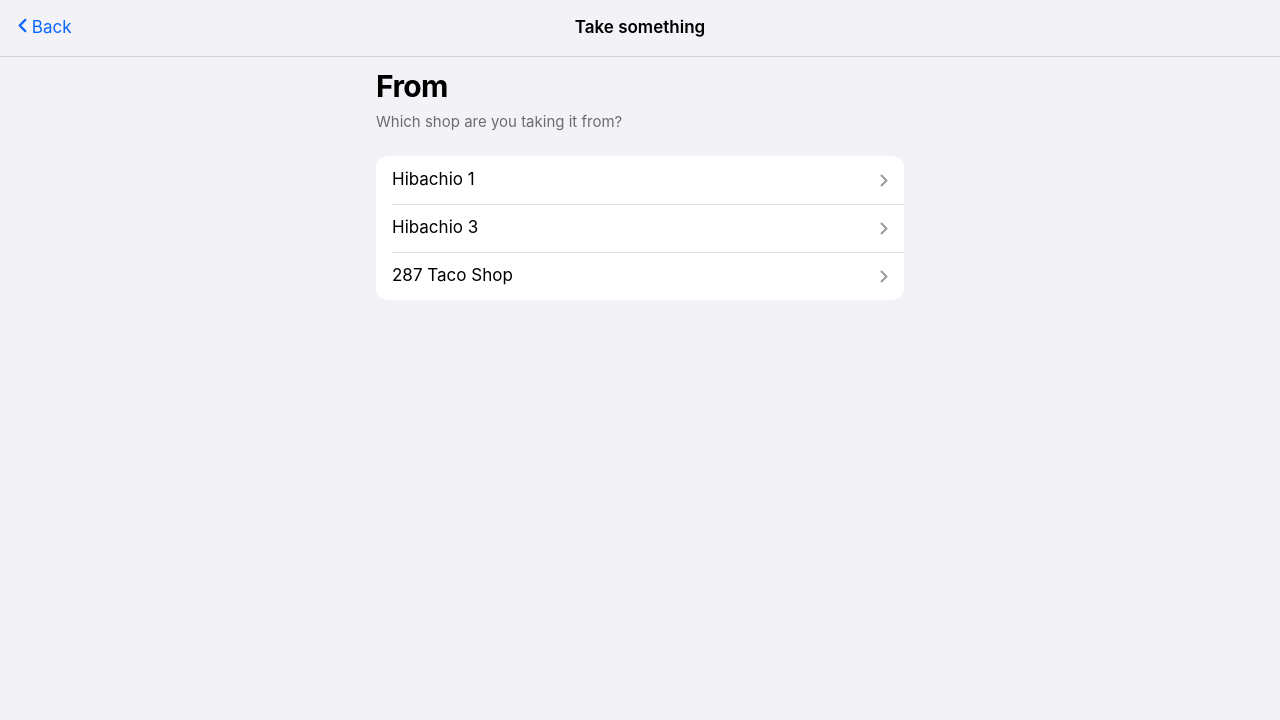
Test: the take flow, end to end › searches the catalog
Click the button "287 Taco Shop" at [452, 275], box [376,252,904,300]
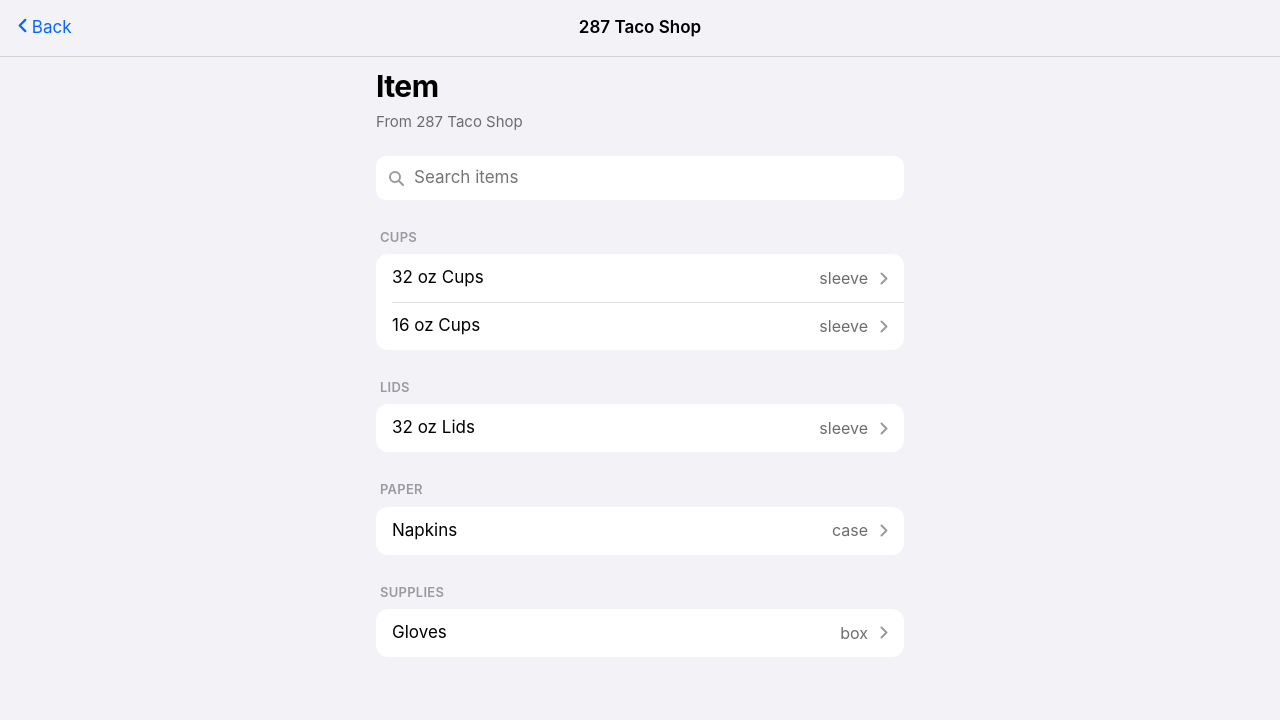
Result: the button "32 oz Cups sleeve" is shown at [376,254,904,302]
Type "napk" into the search field labelled "Search items" at [652, 178], box [412,156,892,200]
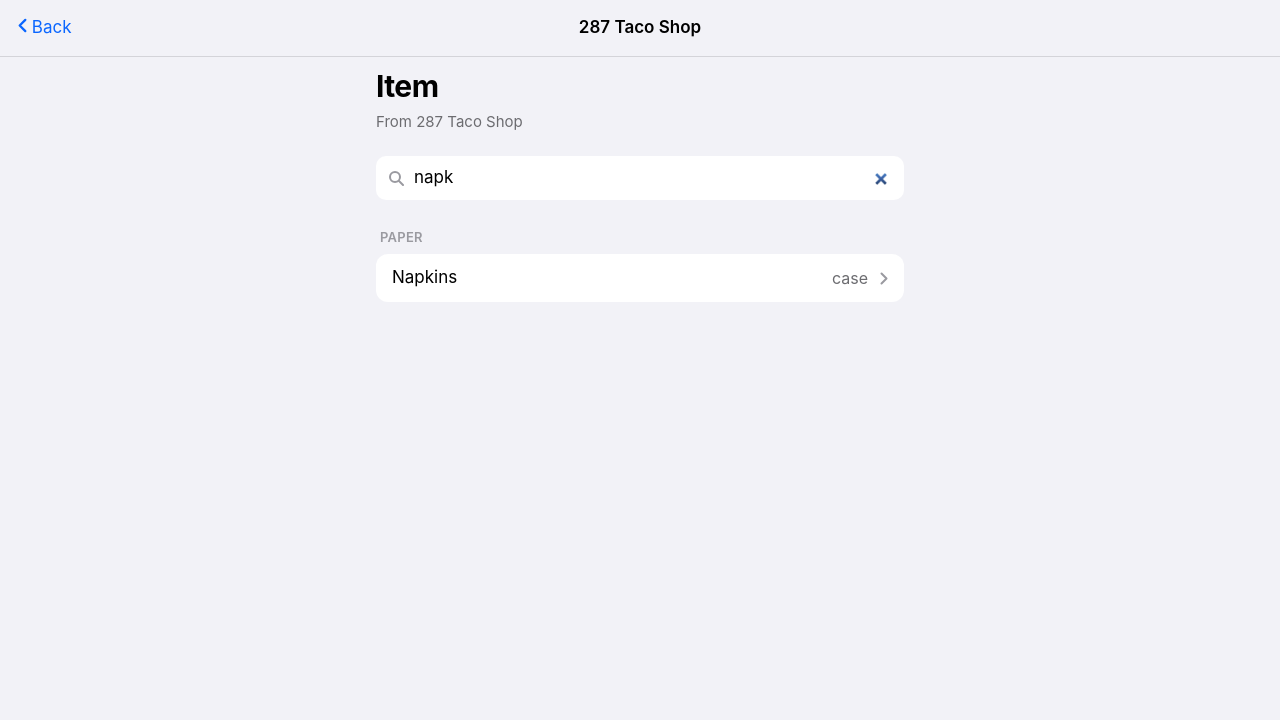
Result: the button "Napkins case" is shown at [376,254,904,302]
Result: the button "32 oz Cups" is gone
